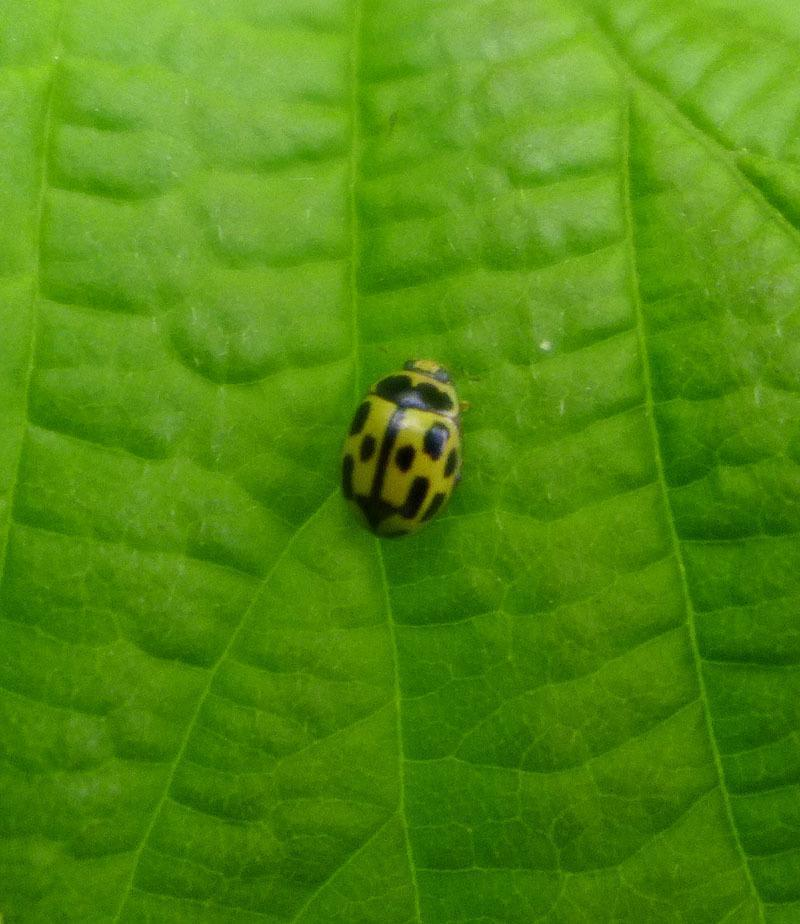ladybug: (336, 351, 479, 546)
